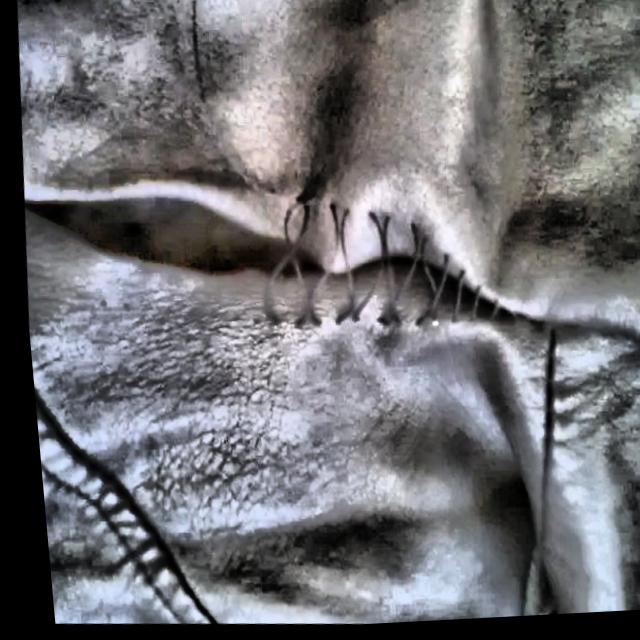Stitch: (205, 163, 544, 371)
